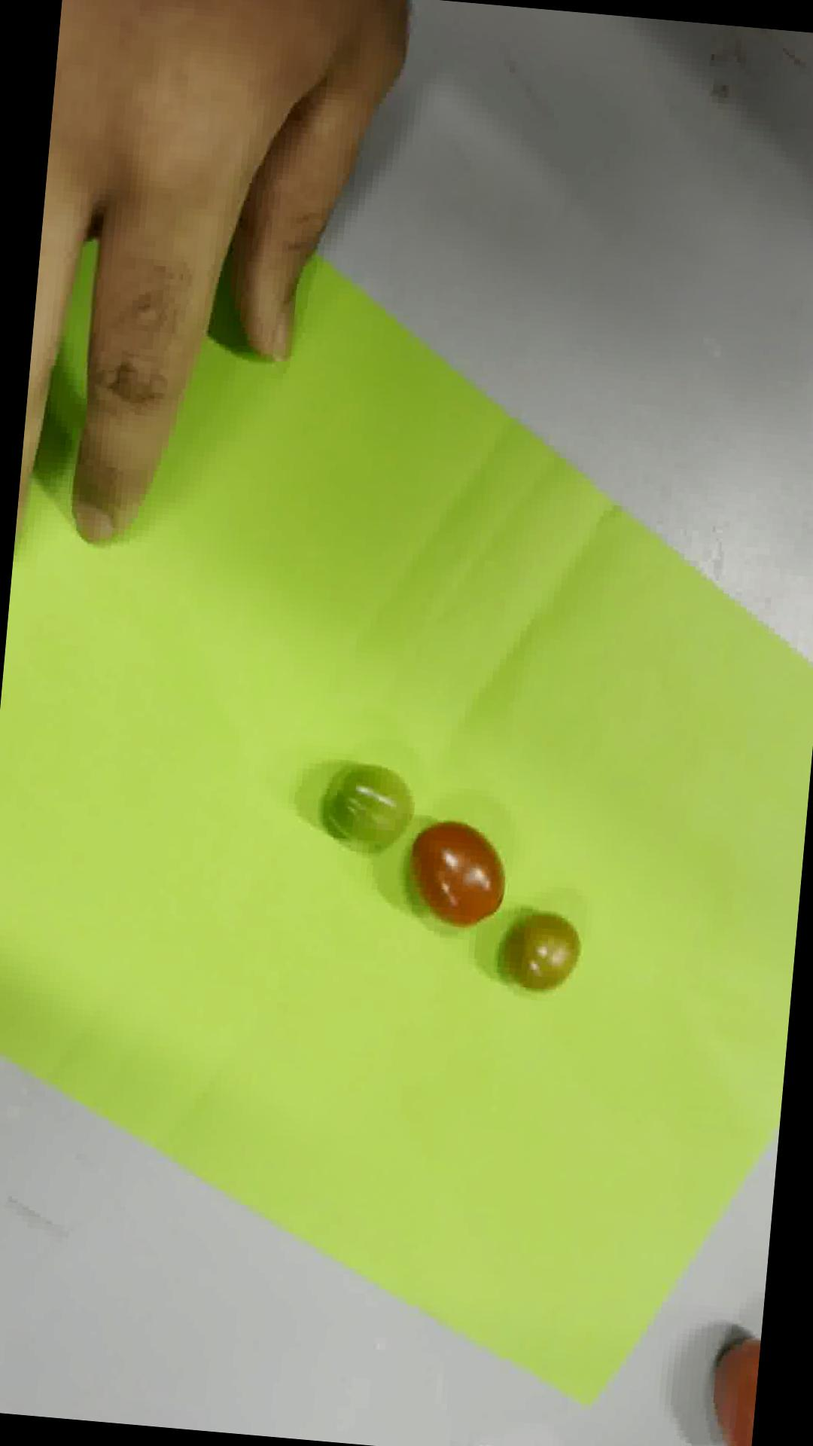green_cherry_tomato: (323, 764, 413, 853)
red_cherry_tomato: (410, 822, 504, 927)
yellow_cherry_tomato: (504, 912, 580, 990)
